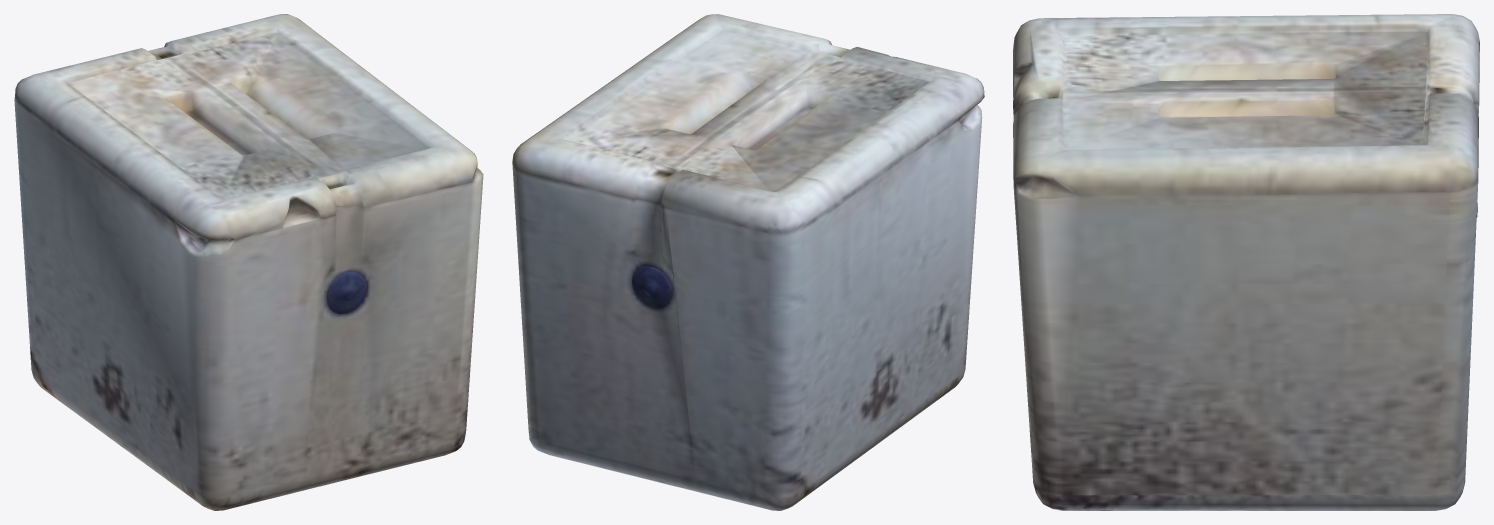
File: foam_cooler.glb
The picture shows the model from 3 angles, left to right: view 1: azimuth 30°, elevation 25°; view 2: azimuth 150°, elevation 25°; view 3: azimuth 270°, elevation 25°; orthographic projection. The views are drawn at different scales.
Visible parts, largest first — view 1: foam_cooler; view 2: foam_cooler; view 3: foam_cooler.
Boxes of the visible parts, x1,y1,x2,y2 form: foam_cooler: (14, 14, 483, 510); foam_cooler: (512, 14, 984, 510); foam_cooler: (1013, 14, 1479, 510).
Size of the model in its own units: 0.3839 by 0.4 by 0.4679.
1 material, 1 textured.
